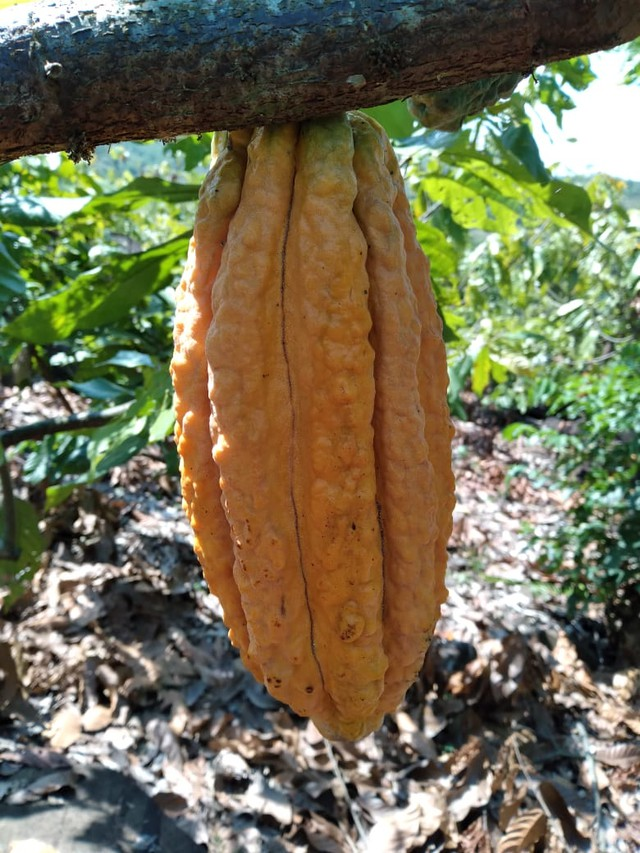Health: (163, 91, 464, 750)
